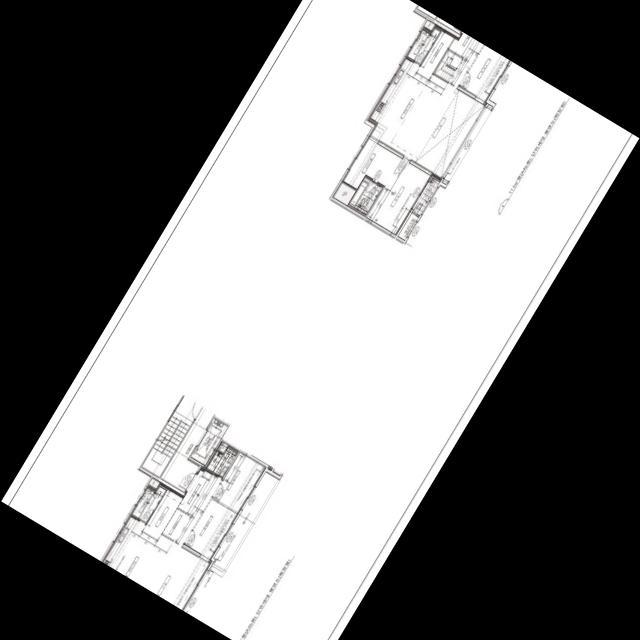background: (1, 0, 639, 640)
space_balconi: (413, 178, 440, 215)
space_bedroom: (367, 158, 431, 235), (213, 452, 266, 513), (185, 499, 238, 560), (460, 46, 510, 102)
space_dressroom: (342, 138, 402, 189)
space_elevator: (191, 418, 228, 465)
space_elevator_hall: (161, 407, 215, 492)
space_front: (178, 467, 213, 514), (449, 32, 475, 57)
space_kitchen: (368, 28, 455, 149), (102, 516, 173, 588)
space_living_room: (394, 40, 484, 180), (145, 474, 222, 610)
space_multipurpose_space: (131, 486, 166, 523), (406, 28, 440, 64)
space_other: (146, 489, 183, 534), (163, 509, 189, 540), (333, 182, 356, 205), (450, 54, 463, 68), (423, 20, 436, 33), (148, 478, 161, 490), (218, 442, 228, 453)
space_outdoor_room: (398, 213, 419, 240)
space_staircase: (142, 396, 202, 477), (435, 50, 456, 82)
space_toilet: (349, 177, 382, 214), (207, 447, 238, 477)
